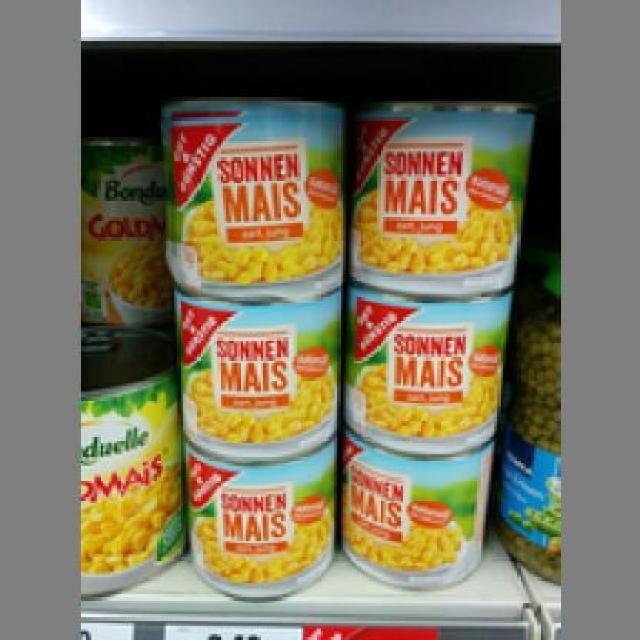Corn: (343, 97, 534, 300), (150, 89, 344, 288), (340, 283, 514, 452), (169, 286, 340, 452), (334, 422, 494, 592), (77, 326, 177, 594), (177, 437, 334, 600)
